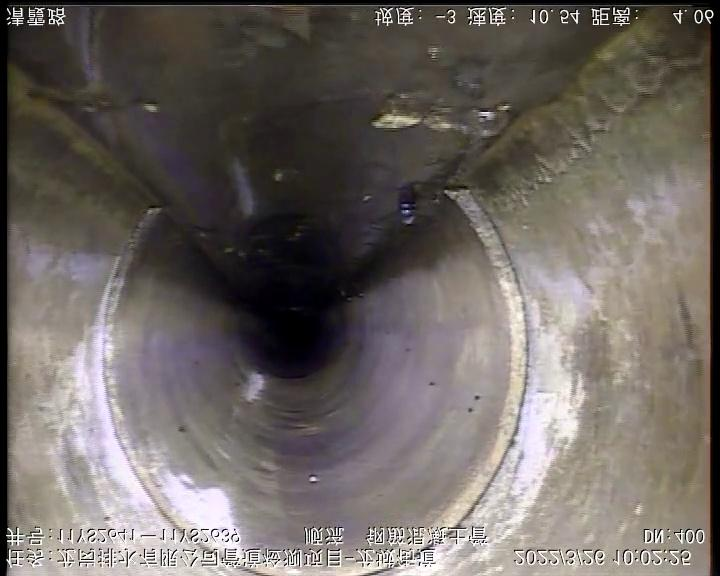CKTJ: (436, 187, 527, 528), (99, 207, 178, 523)
